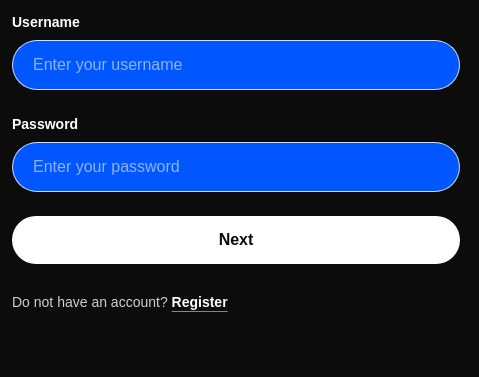
it: LoginForm › shows the backend invalid credentials message
Type "aida" into the field labelled "Username".
click(236, 65); type("aida")  # box [12,40,460,90]
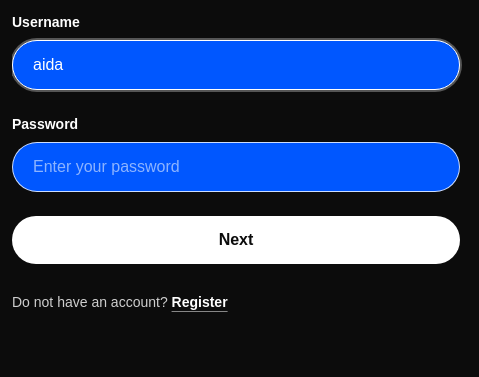
Type "wrong" into the password field labelled "Password".
click(236, 167); type("wrong")  # box [12,142,460,192]
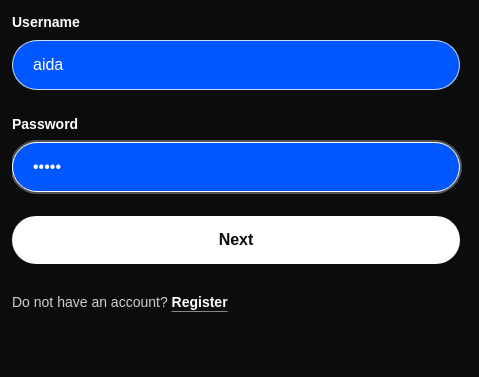
Click the button "Next".
click(236, 240)  # box [12,216,460,264]
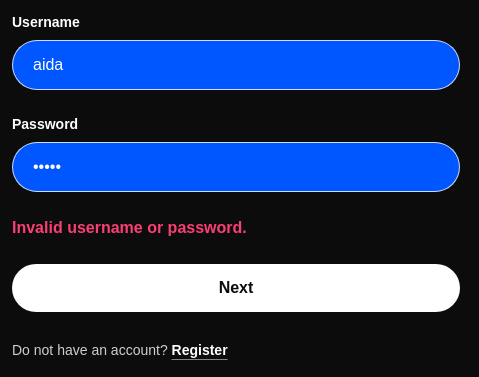
Check: the text "Invalid username or password." is shown, box [12,219,247,236]
